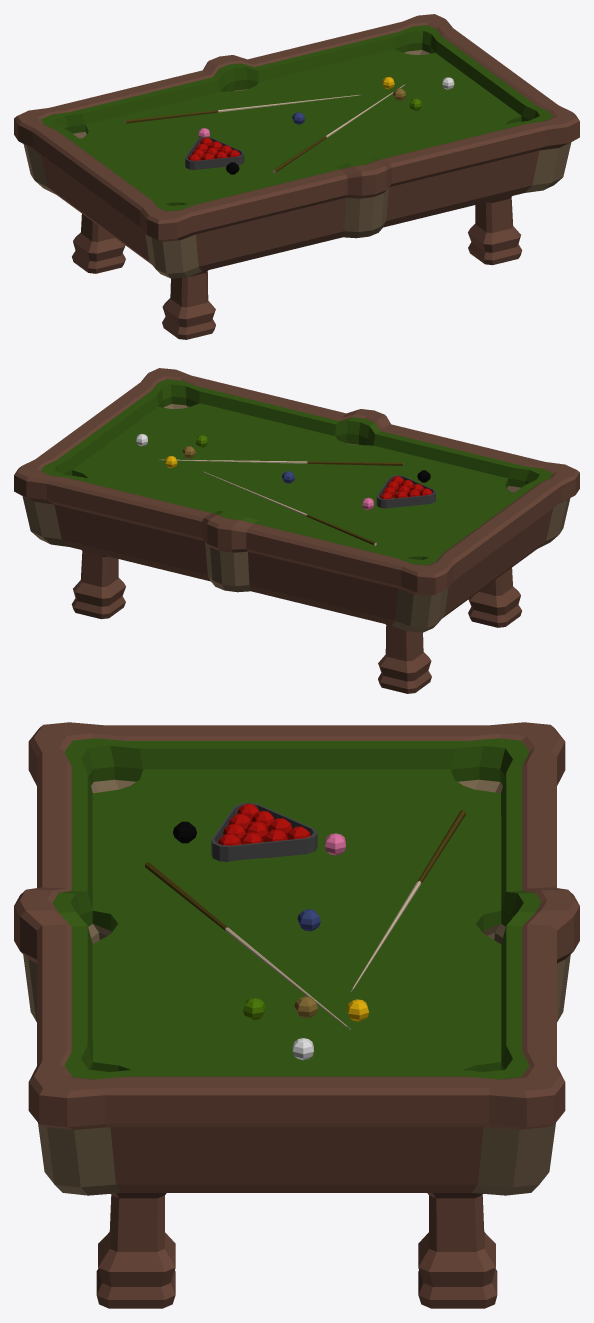
Rendered from billiards_table.fbx.
The picture shows the model from 3 angles, top to bottom: view 1: azimuth 30°, elevation 25°; view 2: azimuth 150°, elevation 25°; view 3: azimuth 270°, elevation 25°; orthographic projection. The views are drawn at different scales.
Parts seen in each view (by area): view 1: table_top, balls, cues, triangle; view 2: table_top, balls, cues, triangle; view 3: table_top, balls, triangle, cues.
Boxes of the visible parts, x1,y1,x2,y2 form: table_top: (14, 14, 579, 339); balls: (188, 77, 454, 174); cues: (125, 84, 405, 173); triangle: (185, 136, 244, 169); table_top: (14, 368, 579, 693); balls: (136, 434, 432, 510); cues: (158, 459, 403, 545); triangle: (376, 475, 435, 508); table_top: (14, 722, 579, 1308); balls: (173, 803, 369, 1060); triangle: (211, 802, 317, 861); cues: (145, 810, 465, 1029).
Bounding box in the file's own units: 10.04 × 3.26 × 6.44.
1 material, 1 textured.
